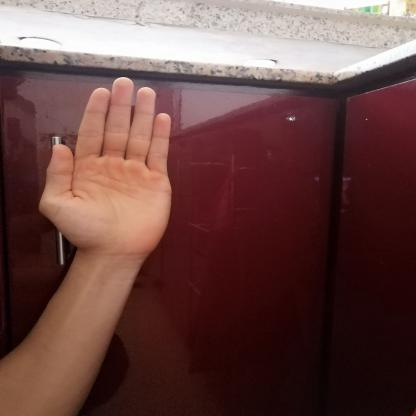SEEN: (24, 64, 184, 262)
